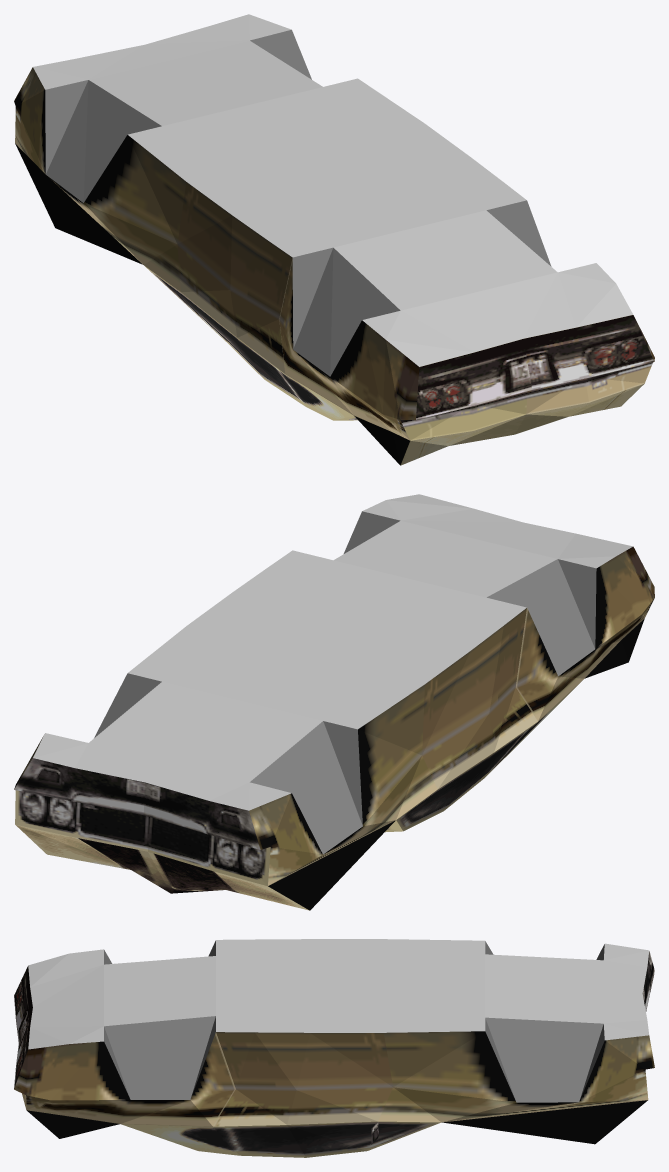
Rendered from CHICAGO_model12_damaged.obj.
The picture shows the model from 3 angles, top to bottom: view 1: azimuth 30°, elevation 25°; view 2: azimuth 150°, elevation 25°; view 3: azimuth 270°, elevation 25°; orthographic projection. The views are drawn at different scales.
Visible parts, largest first — view 1: CHICAGO_model12_damaged; view 2: CHICAGO_model12_damaged; view 3: CHICAGO_model12_damaged.
Part boxes in pixels (<box>): CHICAGO_model12_damaged: <box>14,14,654,465</box>; CHICAGO_model12_damaged: <box>14,494,654,910</box>; CHICAGO_model12_damaged: <box>14,939,654,1157</box>.
Size of the model in its own units: 281 by 164 by 676.
